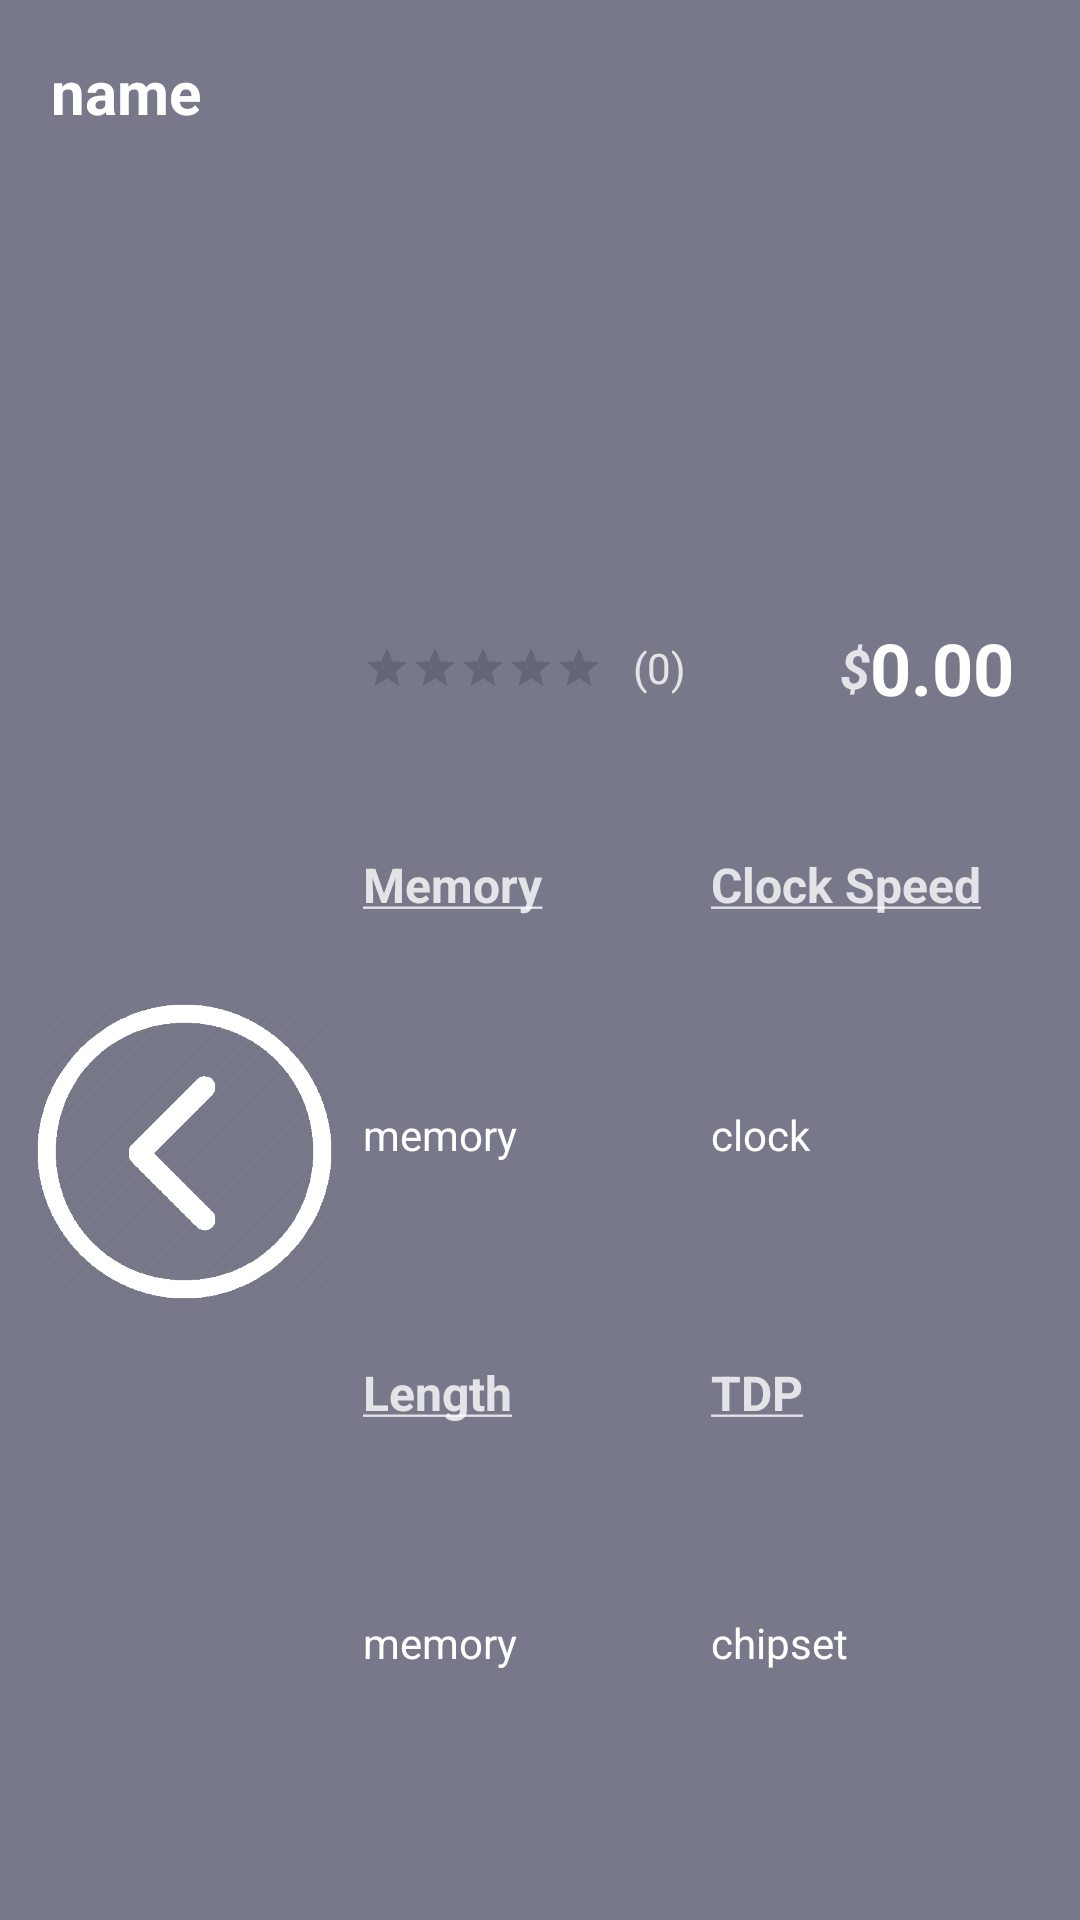

Screen size 1080x1920. Icon name, then its center in pixels as point (x, y):
back: point (184, 1151)
